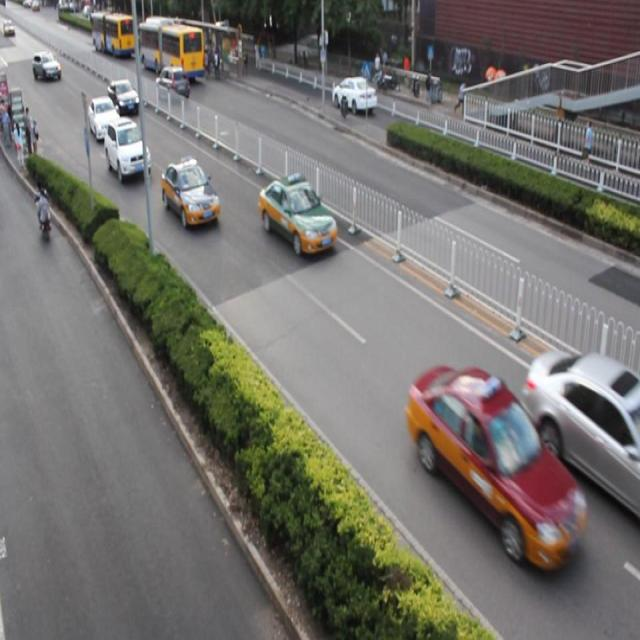car: (406, 362, 586, 571), (522, 345, 640, 511), (259, 170, 334, 254), (162, 155, 219, 224), (104, 117, 150, 180), (331, 73, 377, 117), (153, 63, 190, 105), (88, 96, 121, 139), (108, 78, 139, 118)
van: (138, 14, 204, 82)
